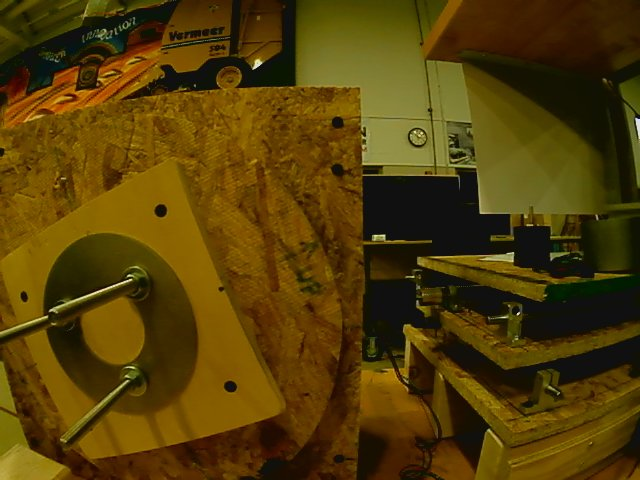bolt: (117, 361, 150, 401), (121, 265, 153, 306), (50, 299, 79, 337)
